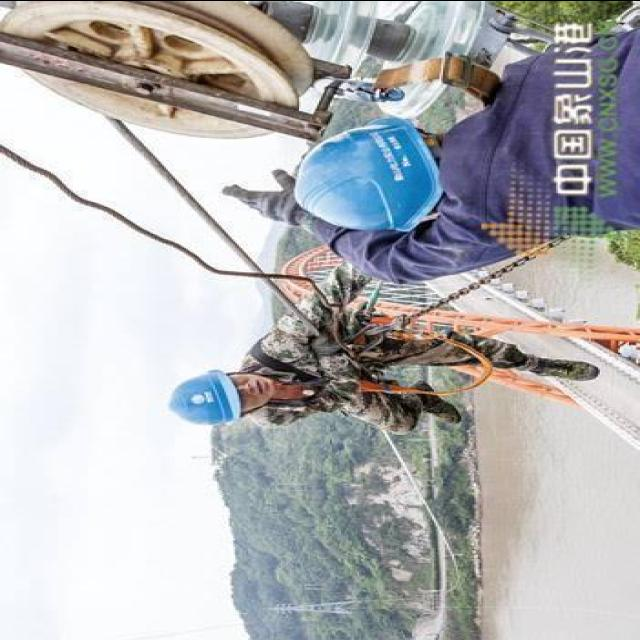helmet: (284, 114, 446, 244), (157, 362, 240, 431)
